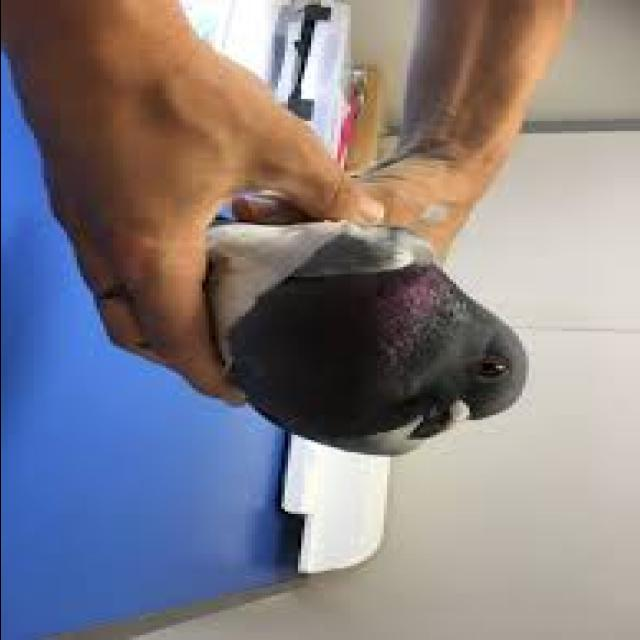pigeon: (203, 216, 576, 464)
